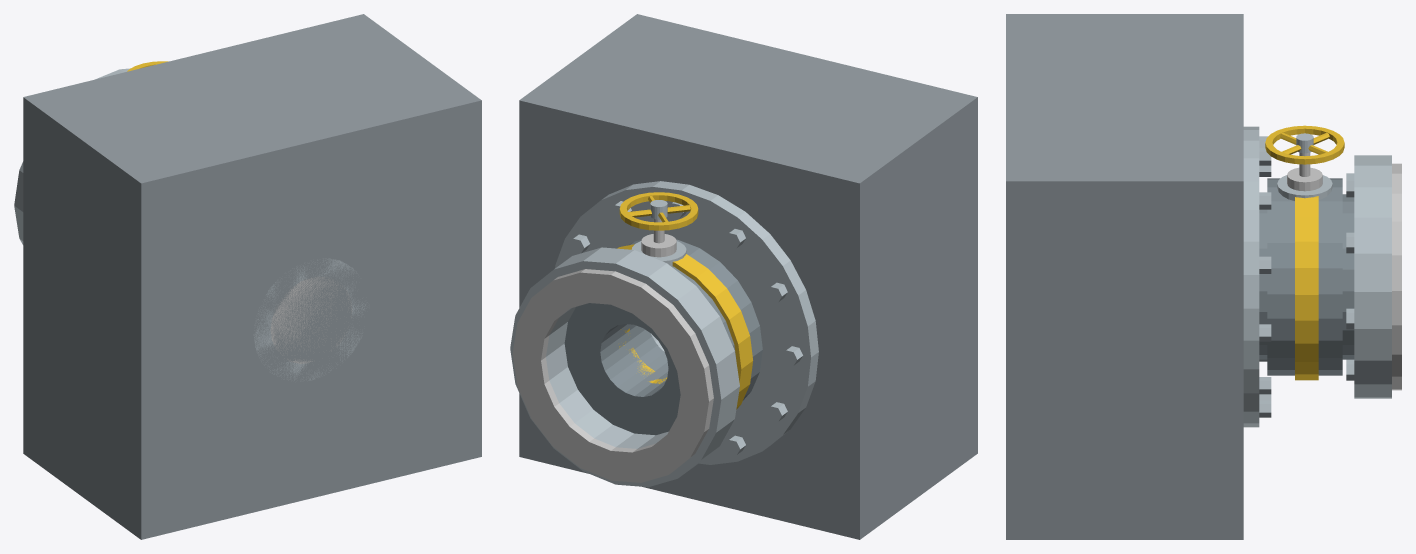
Rendered from body.obj.
3 views of the same model, side by side, from view 1: azimuth 30°, elevation 25°; view 2: azimuth 150°, elevation 25°; view 3: azimuth 270°, elevation 25° (orthographic).
Size of the model in its own units: 1 by 1 by 1.
